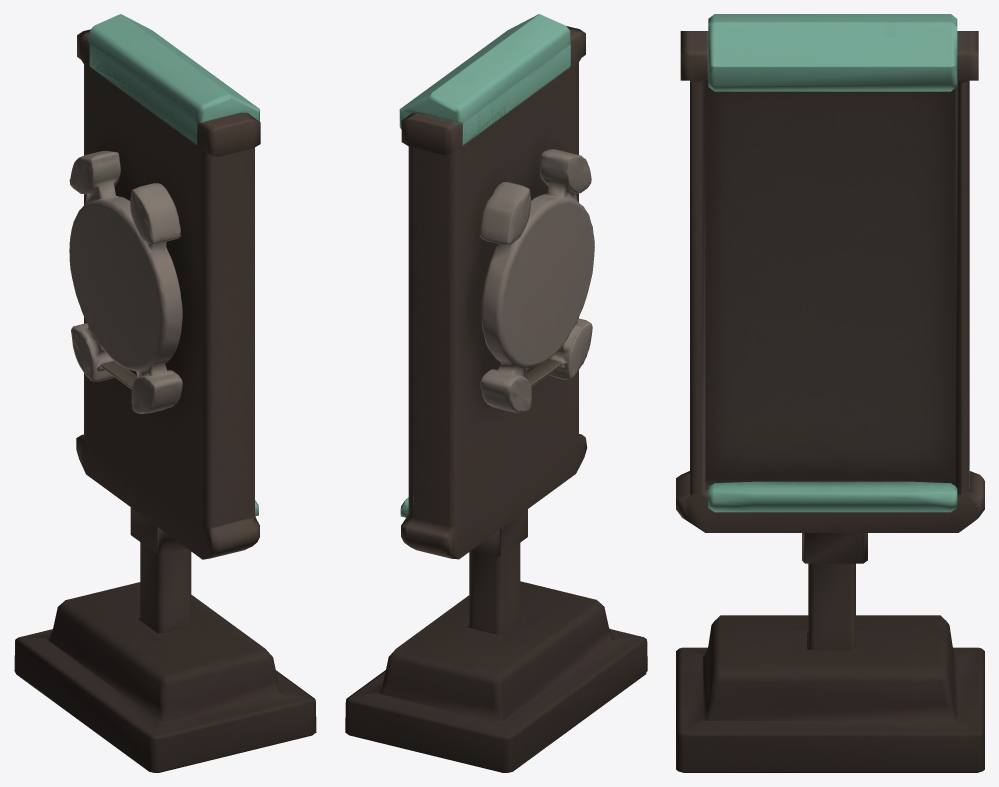
The model's file is floor-sign.glb.
The picture shows the model from 3 angles, left to right: view 1: azimuth 30°, elevation 25°; view 2: azimuth 150°, elevation 25°; view 3: azimuth 270°, elevation 25°; orthographic projection. The views are drawn at different scales.
Visible parts, largest first — view 1: tripo_node_kodyurd-model-18____________________; view 2: tripo_node_kodyurd-model-18____________________; view 3: tripo_node_kodyurd-model-18____________________.
Boxes of the visible parts, x1=… form: tripo_node_kodyurd-model-18____________________: x1=14, y1=14, x2=316, y2=772; tripo_node_kodyurd-model-18____________________: x1=345, y1=14, x2=647, y2=772; tripo_node_kodyurd-model-18____________________: x1=676, y1=14, x2=984, y2=772.
Size of the model in its own units: 0.2676 by 0.998 by 0.3926.
Materials: 1 (1 with a texture image).
